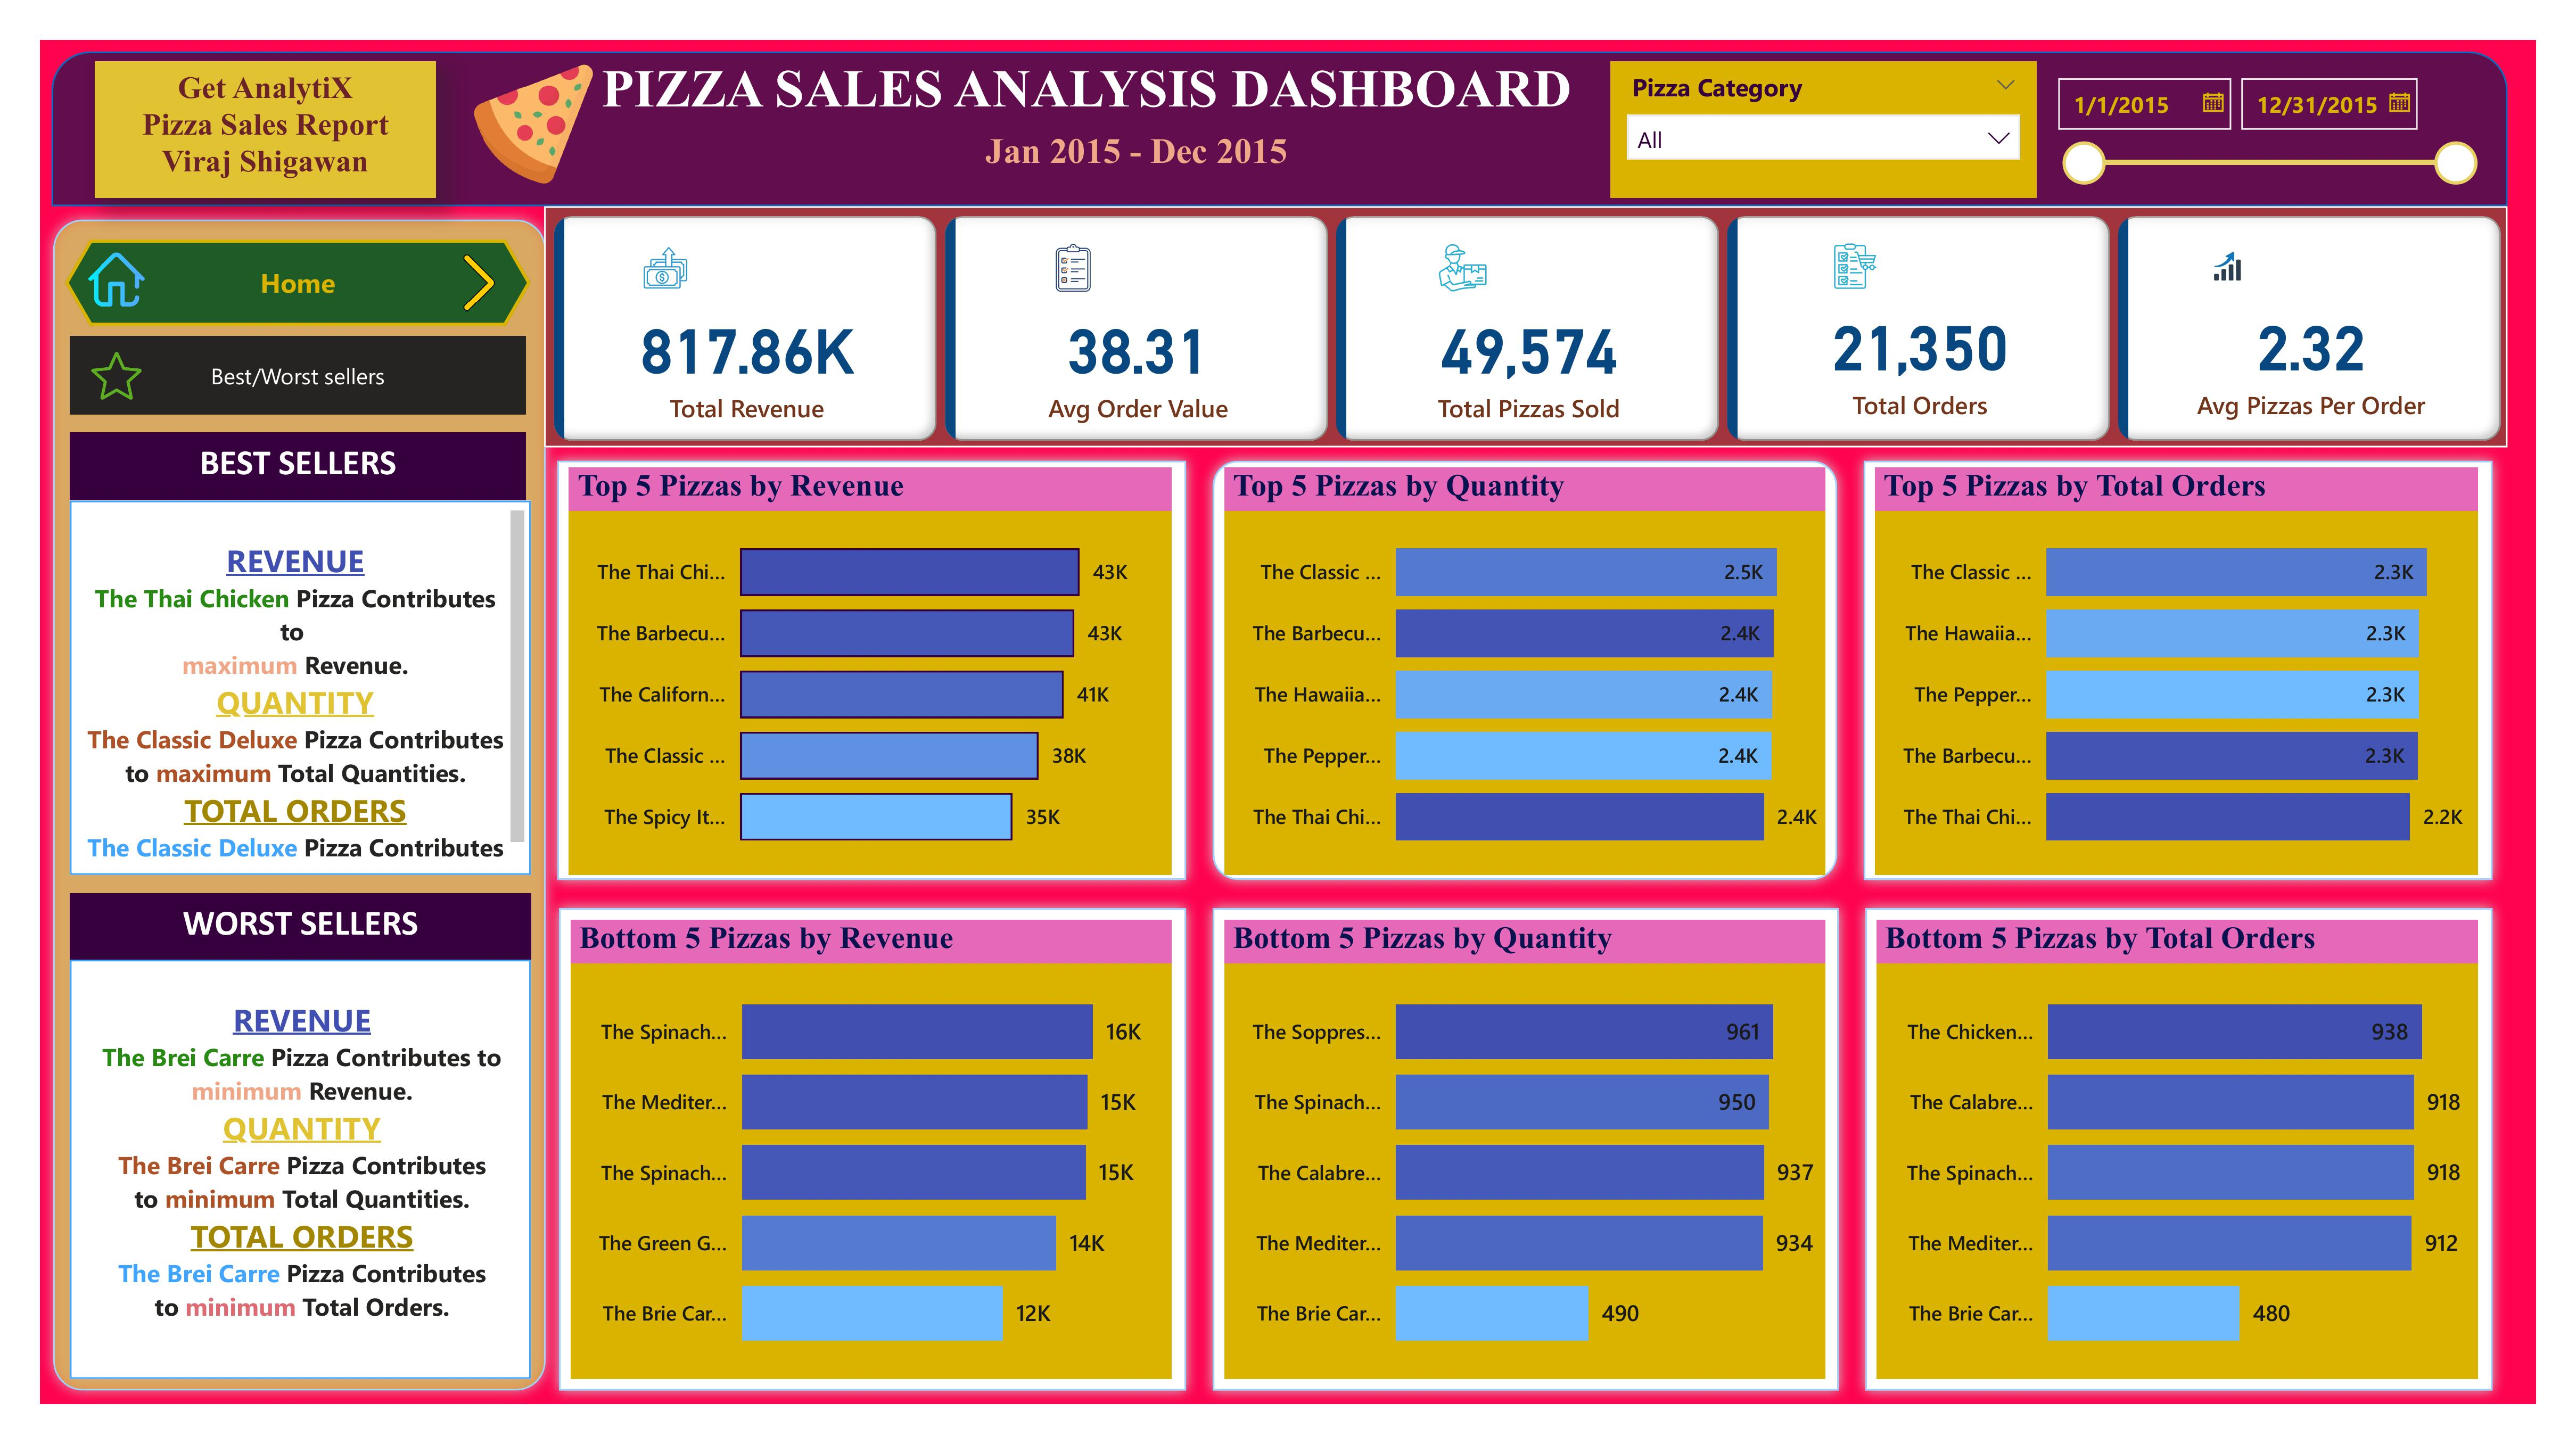

The dashboard page shown, as its layout file describes it:
{"tool":"powerbi","page":{"name":"Best/Worst sellers","canvas":[1500,820],"ordinal":1},"visuals":[{"type":"shape","box":[303.3,245,393.3,268.3],"z":0},{"type":"shape","box":[0,100,311.7,720],"z":1000},{"type":"textbox","box":[17.7,236.2,273.8,40.8],"z":2000},{"type":"textbox","box":[17.7,276.9,276.9,225.4],"z":3000},{"type":"textbox","box":[17.7,513.1,276.9,40.8],"z":4000},{"type":"textbox","box":[18.3,553.3,276.7,251.7],"z":5000},{"type":"shape","box":[696.7,245,391.7,268.3],"z":6000},{"type":"shape","box":[1088.3,245,393.3,268.3],"z":7000},{"type":"shape","box":[304,514.1,392.5,305.9],"z":8000},{"type":"shape","box":[1089,514.1,392.5,305.9],"z":9000},{"type":"shape","box":[696.5,514.1,392.5,305.9],"z":10000},{"type":"barChart","title":"Top 5 Pizzas by Revenue","fields":{"Category":["pizza_sales.pizza_name"],"Y":["pizza_sales.Total Revenue"]},"box":[318.3,256.7,361.7,245],"z":11000},{"type":"barChart","title":"Bottom 5 Pizzas by Revenue","fields":{"Category":["pizza_sales.pizza_name"],"Y":["pizza_sales.Total Revenue"]},"box":[318.8,528.9,361.2,276.4],"z":12000},{"type":"barChart","title":"Top 5 Pizzas by Quantity","fields":{"Category":["pizza_sales.pizza_name"],"Y":["pizza_sales.Total Pizzas Sold"]},"box":[711.7,256.7,361.7,245],"z":13000},{"type":"barChart","title":"Bottom 5 Pizzas by Quantity","fields":{"Category":["pizza_sales.pizza_name"],"Y":["pizza_sales.Total Pizzas Sold"]},"box":[712.4,528.8,360.6,276.5],"z":14000},{"type":"barChart","title":"Top 5 Pizzas by Total Orders","fields":{"Category":["pizza_sales.pizza_name"],"Y":["pizza_sales.Total Orders"]},"box":[1103.3,256.7,361.7,245],"z":15000},{"type":"barChart","title":"Bottom 5 Pizzas by Total Orders","fields":{"Category":["pizza_sales.pizza_name"],"Y":["pizza_sales.Total Orders"]},"box":[1104,528.8,360.6,276.5],"z":16000},{"type":"pageNavigator","box":[14.6,120,280,51.5],"z":17000},{"type":"pageNavigator","box":[17.7,178.5,273.8,46.9],"z":18000},{"type":"image","box":[241.5,120,44.6,51.5],"z":19000},{"type":"image","box":[23.8,116.2,44.6,55.4],"z":20000},{"type":"image","box":[23.8,181.5,44.6,40.8],"z":21000},{"type":"shape","box":[6.9,6.9,1476.2,93.1],"z":22000},{"type":"textbox","box":[32.7,12.7,205.3,82.7],"z":23000},{"type":"textbox","box":[265,6,728,53],"z":24000},{"type":"image","box":[254,6,85,89],"z":25000},{"type":"textbox","box":[551,50,216,45],"z":26000},{"type":"slicer","fields":{"Values":["pizza_sales.Pizza Category"]},"box":[943.6,12.7,256.4,82.7],"z":27000},{"type":"slicer","fields":{"Values":["pizza_sales.order_date"]},"box":[1200,12.7,272.7,82.7],"z":28000},{"type":"cardVisual","fields":{"Data":["pizza_sales.Total Revenue","pizza_sales.Avg Order Value","pizza_sales.Total Pizza Sold","pizza_sales.Total Orders Placed","pizza_sales.Avg pizza per order"]},"box":[303.3,100,1180,145],"z":29000}]}

Visuals, with their boxes on the page's 1500x820 design canvas (x1, y1, x2, y2). These are canvas units, not pixel positions in the 2576x1444 screenshot, which may show the page scaled, cropped or inside an application window:
shape: (x1=303, y1=245, x2=697, y2=513)
shape: (x1=0, y1=100, x2=312, y2=820)
textbox: (x1=18, y1=236, x2=292, y2=277)
textbox: (x1=18, y1=277, x2=295, y2=502)
textbox: (x1=18, y1=513, x2=295, y2=554)
textbox: (x1=18, y1=553, x2=295, y2=805)
shape: (x1=697, y1=245, x2=1088, y2=513)
shape: (x1=1088, y1=245, x2=1482, y2=513)
shape: (x1=304, y1=514, x2=696, y2=820)
shape: (x1=1089, y1=514, x2=1482, y2=820)
shape: (x1=696, y1=514, x2=1089, y2=820)
"Top 5 Pizzas by Revenue" barChart: (x1=318, y1=257, x2=680, y2=502)
"Bottom 5 Pizzas by Revenue" barChart: (x1=319, y1=529, x2=680, y2=805)
"Top 5 Pizzas by Quantity" barChart: (x1=712, y1=257, x2=1073, y2=502)
"Bottom 5 Pizzas by Quantity" barChart: (x1=712, y1=529, x2=1073, y2=805)
"Top 5 Pizzas by Total Orders" barChart: (x1=1103, y1=257, x2=1465, y2=502)
"Bottom 5 Pizzas by Total Orders" barChart: (x1=1104, y1=529, x2=1465, y2=805)
pageNavigator: (x1=15, y1=120, x2=295, y2=172)
pageNavigator: (x1=18, y1=178, x2=292, y2=225)
image: (x1=242, y1=120, x2=286, y2=172)
image: (x1=24, y1=116, x2=68, y2=172)
image: (x1=24, y1=182, x2=68, y2=222)
shape: (x1=7, y1=7, x2=1483, y2=100)
textbox: (x1=33, y1=13, x2=238, y2=95)
textbox: (x1=265, y1=6, x2=993, y2=59)
image: (x1=254, y1=6, x2=339, y2=95)
textbox: (x1=551, y1=50, x2=767, y2=95)
slicer - pizza_sales.Pizza Category: (x1=944, y1=13, x2=1200, y2=95)
slicer - pizza_sales.order_date: (x1=1200, y1=13, x2=1473, y2=95)
cardVisual - pizza_sales.Total Revenue x pizza_sales.Avg Order Value: (x1=303, y1=100, x2=1483, y2=245)
